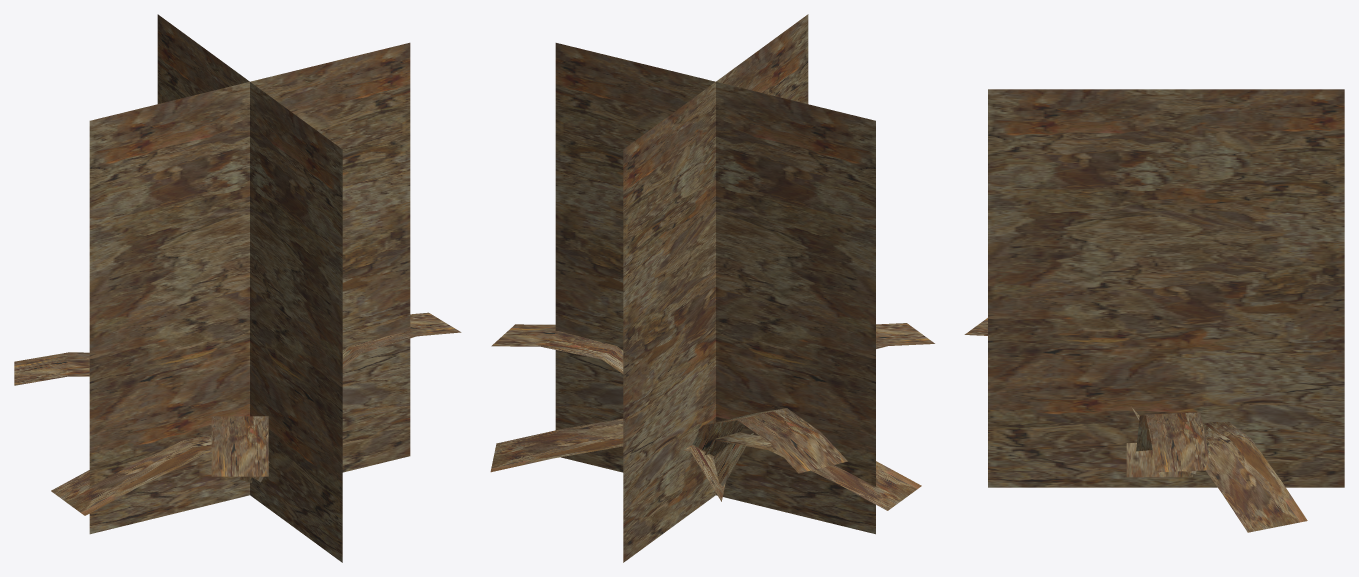
The model's file is grass.obj.
The picture shows the model from 3 angles, left to right: view 1: azimuth 30°, elevation 25°; view 2: azimuth 150°, elevation 25°; view 3: azimuth 270°, elevation 25°; orthographic projection. The views are drawn at different scales.
Parts seen in each view (by area): view 1: BasicGrass_01; view 2: BasicGrass_01; view 3: BasicGrass_01.
Part boxes in pixels (x1,y1,x2,y2): BasicGrass_01: (14, 14, 461, 562); BasicGrass_01: (490, 14, 934, 562); BasicGrass_01: (964, 89, 1344, 532).
Size of the model in its own units: 109 by 110 by 95.27.
